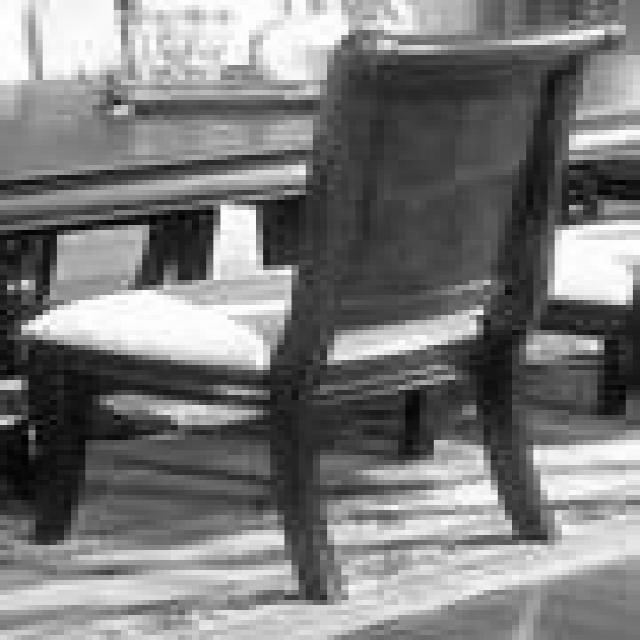chair: (18, 18, 629, 599)
